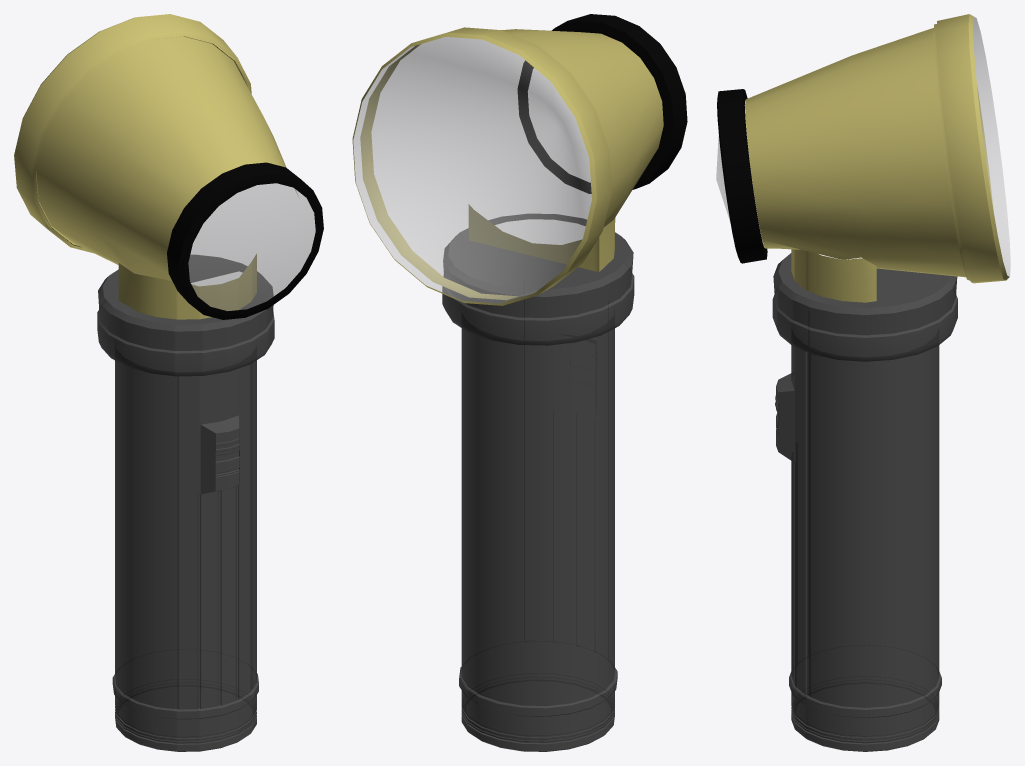
The model's file is token.gltf.
3 renders of one model, left to right at view 1: azimuth 30°, elevation 25°; view 2: azimuth 150°, elevation 25°; view 3: azimuth 270°, elevation 25°, orthographic. The views are drawn at different scales.
Visible parts, largest first — view 1: polySurface1, polySurface8, polySurface3, polySurface7; view 2: polySurface1, polySurface5, polySurface8, polySurface7; view 3: polySurface1, polySurface8, polySurface7, polySurface5.
Boxes of the visible parts, <box> form: polySurface1: <box>97,254,274,751</box>; polySurface8: <box>14,14,298,319</box>; polySurface3: <box>188,183,315,310</box>; polySurface7: <box>167,162,323,319</box>; polySurface1: <box>442,213,634,751</box>; polySurface5: <box>353,37,591,303</box>; polySurface8: <box>352,27,663,305</box>; polySurface7: <box>517,14,687,193</box>; polySurface1: <box>772,253,957,751</box>; polySurface8: <box>745,14,1009,302</box>; polySurface7: <box>717,89,767,263</box>; polySurface5: <box>973,17,1010,276</box>.
Bounding box in the file's own units: 1.41 × 3.99 × 1.53.
